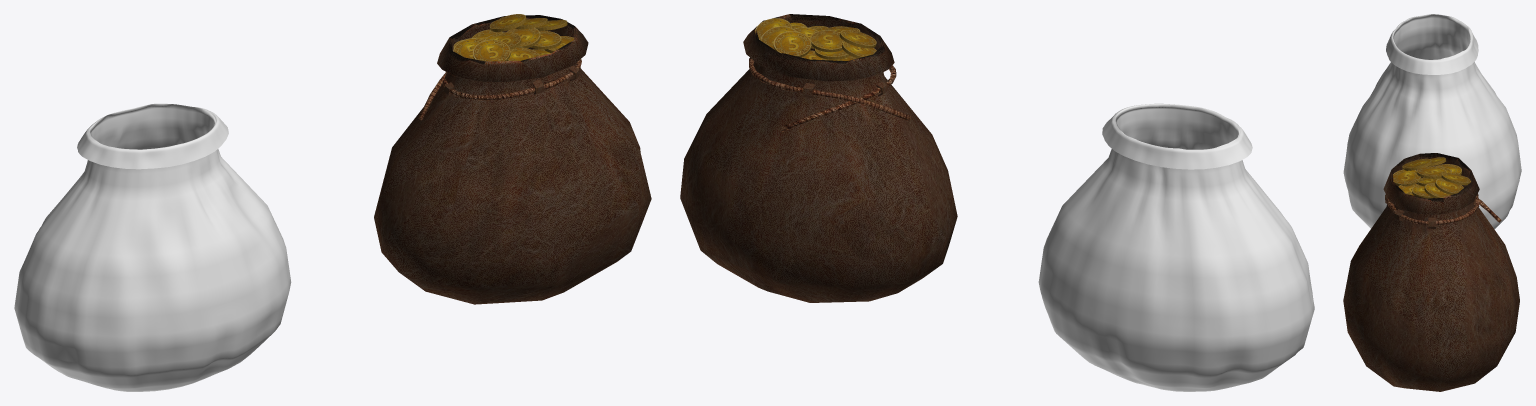
File: purse01.fbx
3 renders of one model, left to right at view 1: azimuth 30°, elevation 25°; view 2: azimuth 150°, elevation 25°; view 3: azimuth 270°, elevation 25°, orthographic. The views are drawn at different scales.
Parts seen in each view (by area): view 1: purseHiRes, pursesimple, coin01.012; view 2: purseHiRes, pursesimple, coin01.002, coin01.005; view 3: pursesimple, purseHiRes, coin01.003, coin01.001, coin01.005, coin01.002, coin01.012, coin01, coin01.009.
Boxes of the visible parts, x1=… form: purseHiRes: x1=14, y1=103, x2=291, y2=391; pursesimple: x1=374, y1=15, x2=651, y2=304; coin01.012: x1=472, y1=39, x2=510, y2=61; purseHiRes: x1=1038, y1=103, x2=1314, y2=391; pursesimple: x1=680, y1=14, x2=957, y2=302; coin01.002: x1=773, y1=31, x2=811, y2=57; coin01.005: x1=810, y1=30, x2=844, y2=52; pursesimple: x1=1343, y1=153, x2=1519, y2=391; purseHiRes: x1=1343, y1=14, x2=1521, y2=229; coin01.003: x1=1393, y1=169, x2=1421, y2=186; coin01.001: x1=1435, y1=178, x2=1463, y2=194; coin01.005: x1=1416, y1=166, x2=1446, y2=178; coin01.002: x1=1441, y1=172, x2=1470, y2=185; coin01.012: x1=1402, y1=158, x2=1431, y2=170; coin01: x1=1424, y1=183, x2=1450, y2=198; coin01.009: x1=1412, y1=184, x2=1433, y2=198.
Bounding box in the file's own units: 390 × 151 × 123.
